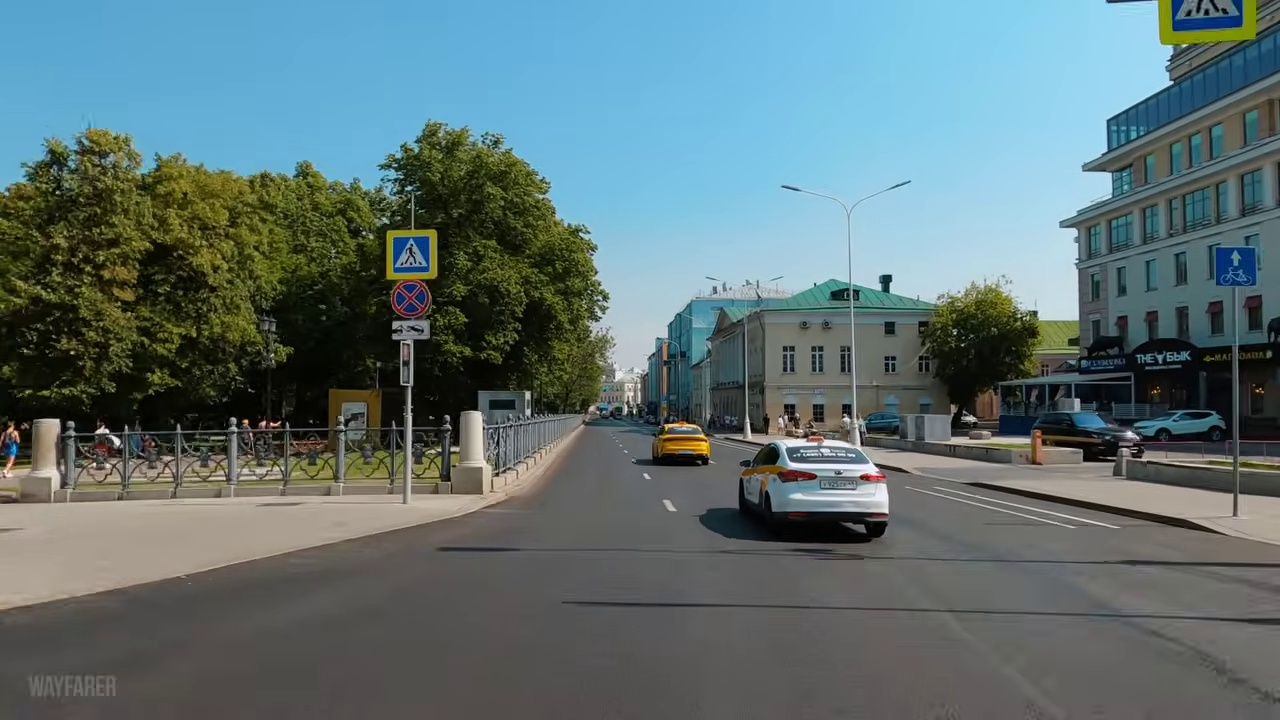apagada: (887, 172, 913, 194), (778, 177, 803, 199)
